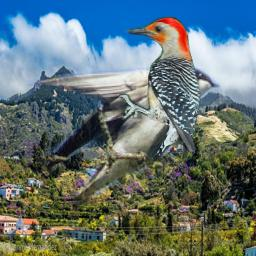Swallow: (25, 63, 220, 212)
Woodpecker: (119, 17, 203, 161)
